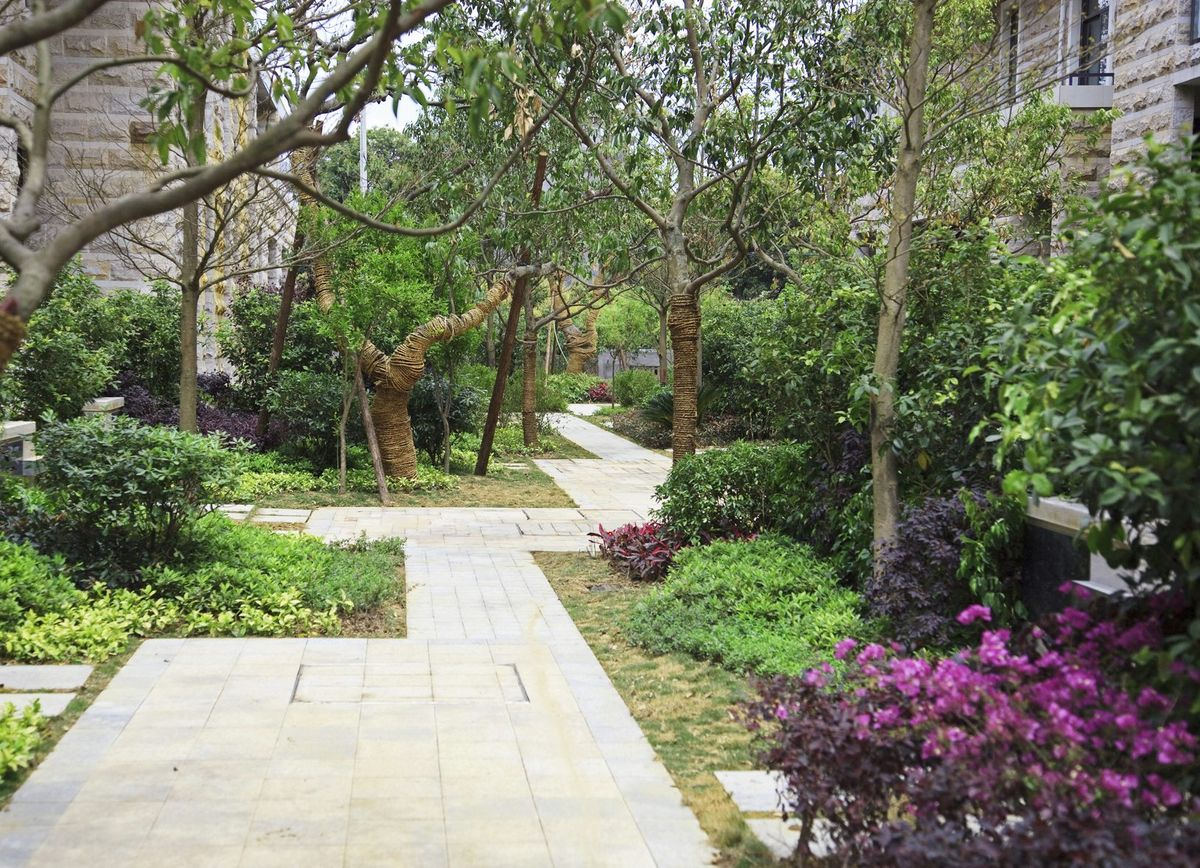Tree: (496, 1, 844, 523), (221, 4, 517, 474)
